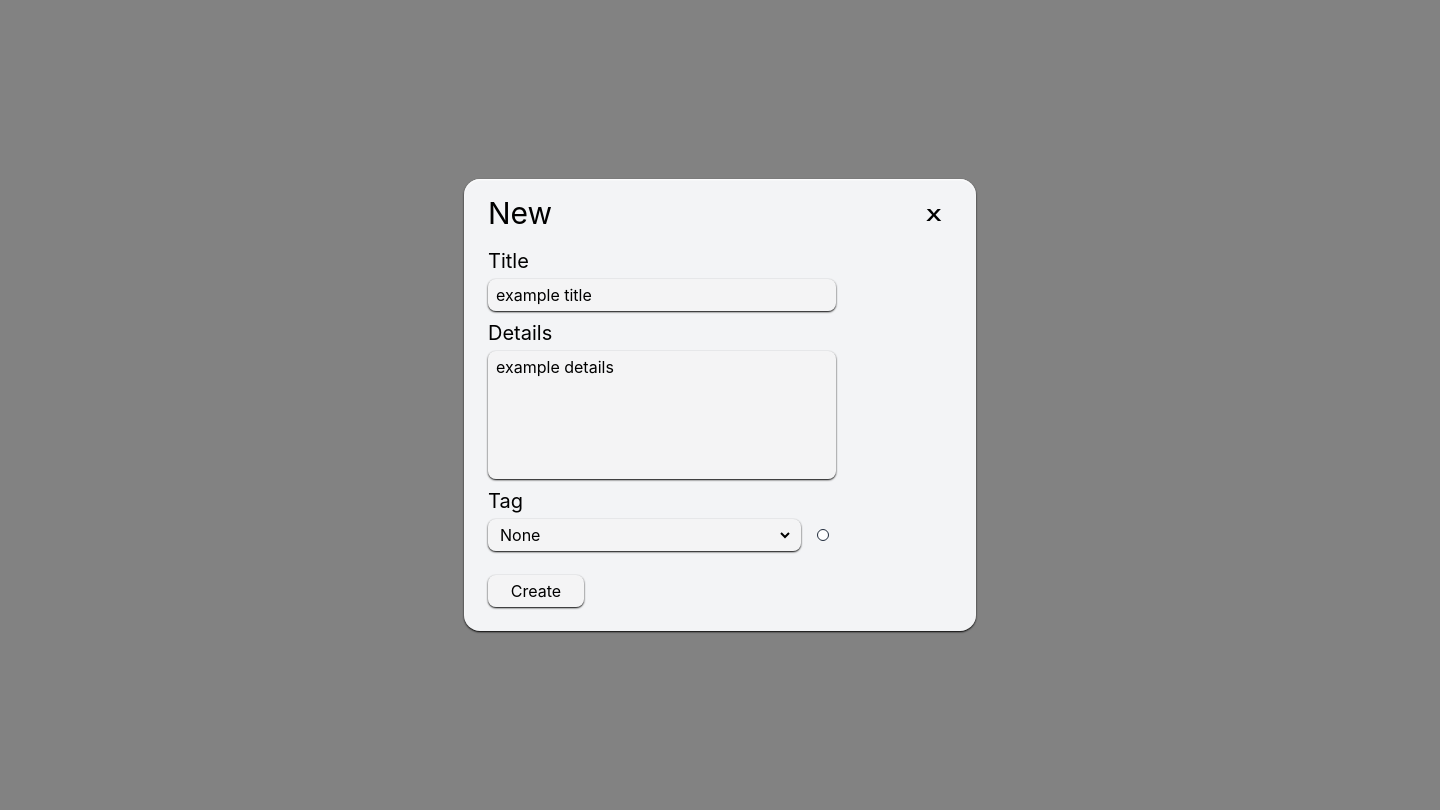
Test: TodoModal › resets errors upon closing
Clear the field labelled "Title": (662, 295) [488, 279, 836, 311]
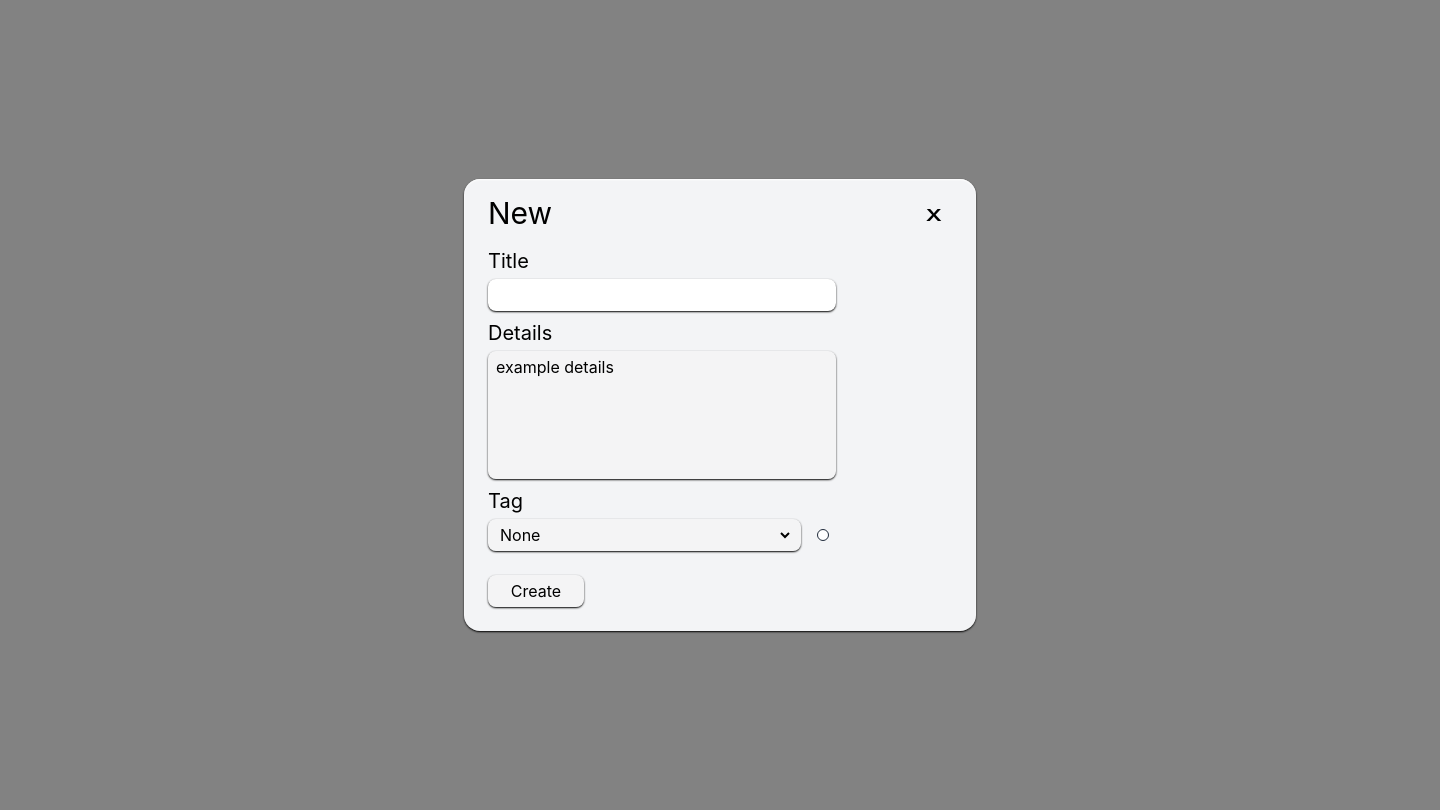
Click the button "Create": (536, 591) [488, 575, 584, 607]
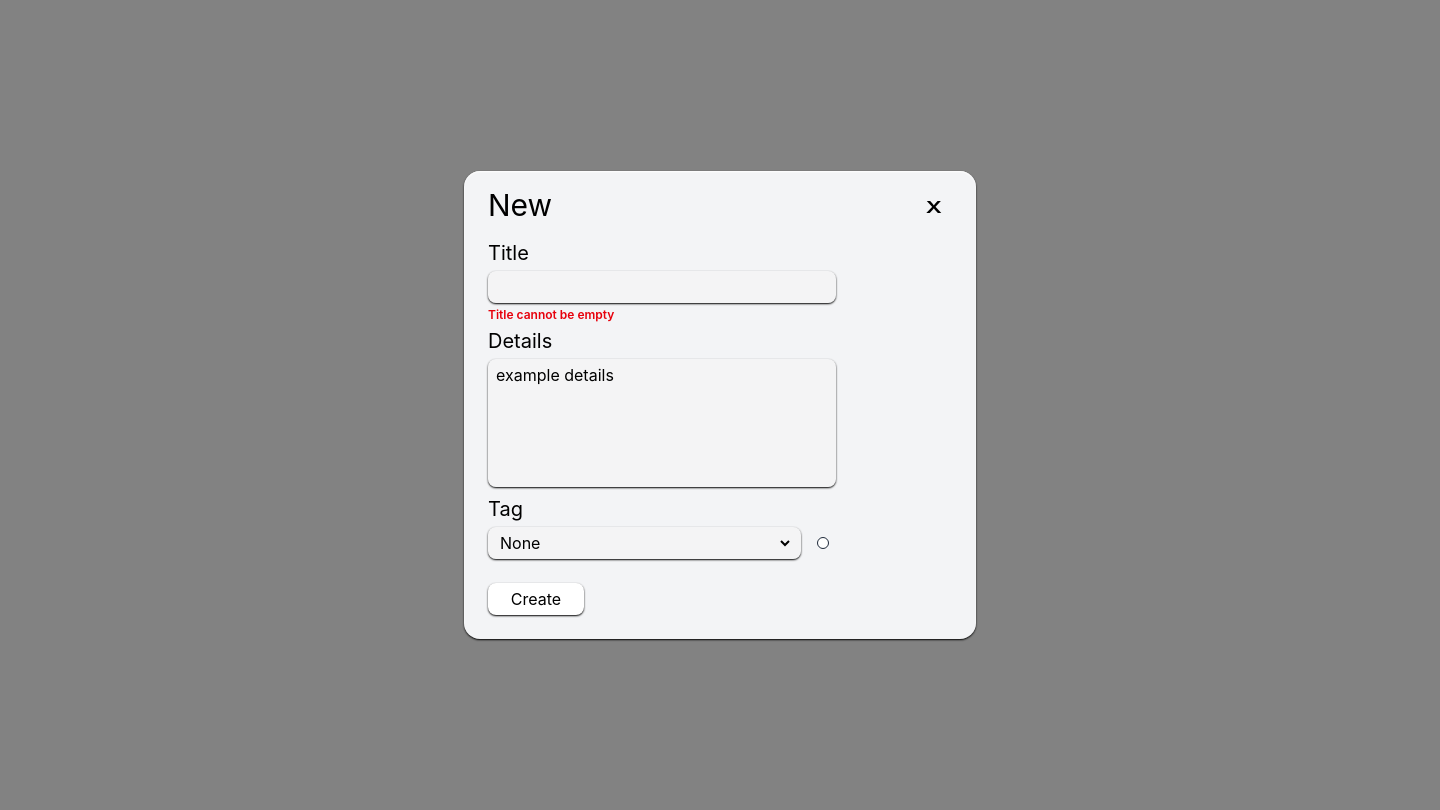
expect the text "Title cannot be empty" is shown: met, box [488, 307, 614, 322]
Click the button "X": (934, 207) [909, 191, 959, 223]
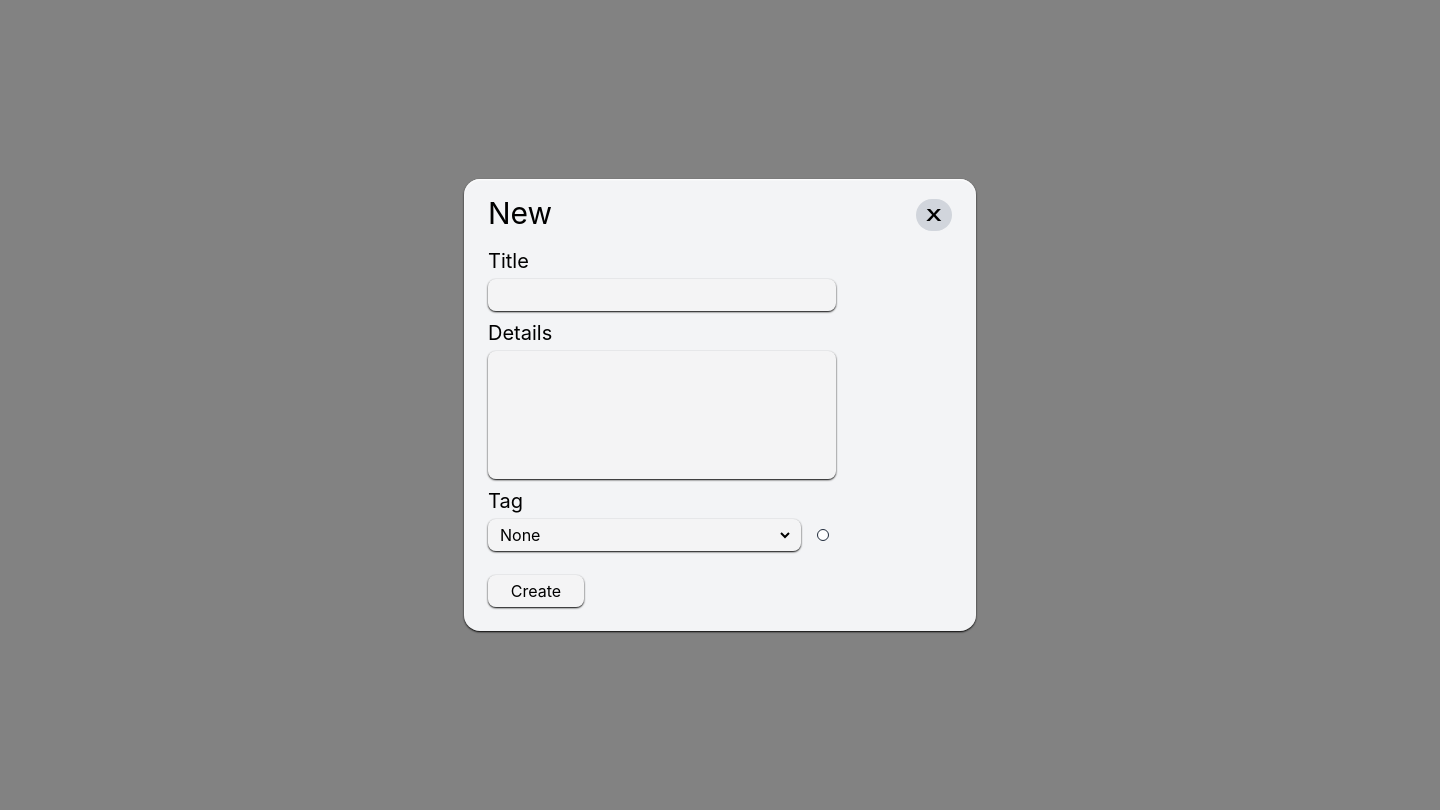
expect the text "Title cannot be empty" is gone: met
